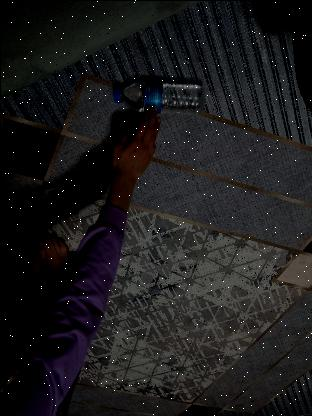Plastic Bottle: (107, 75, 209, 113)
